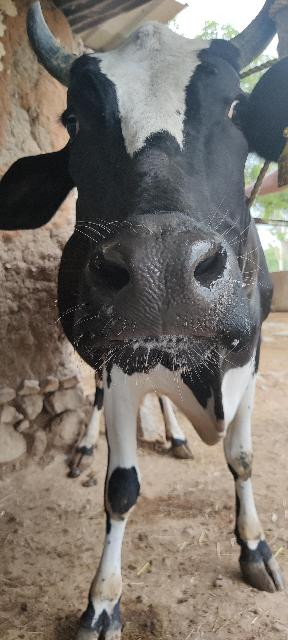Muzzle: (114, 239, 214, 337)
